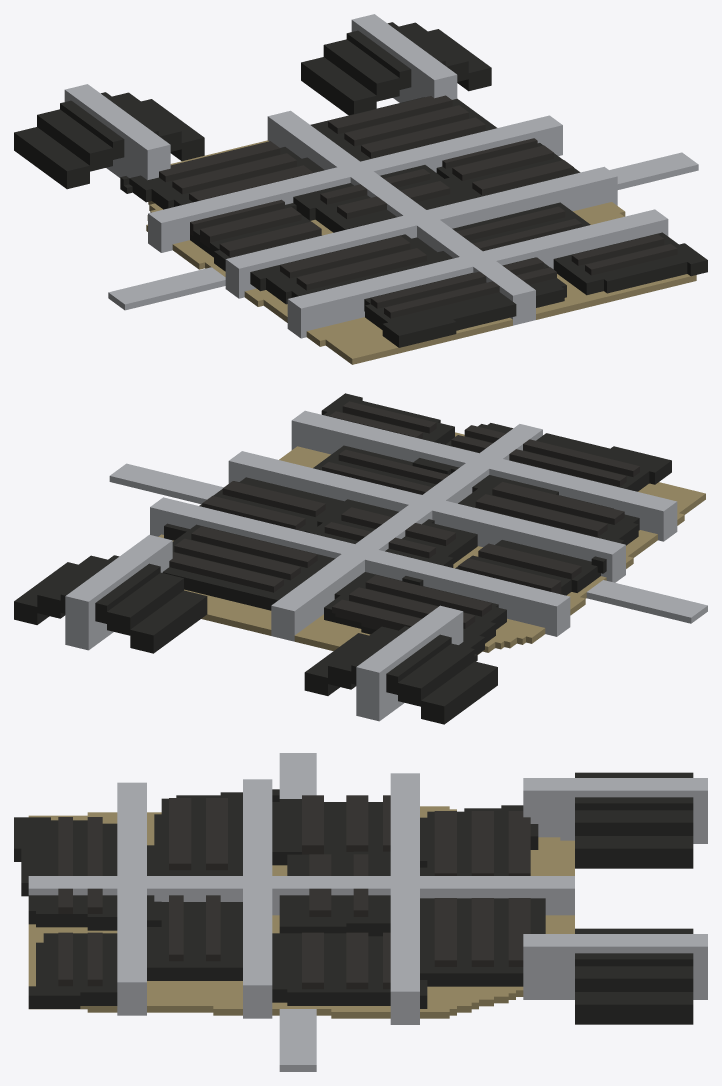
Rendered from tireplate.glb.
The picture shows the model from 3 angles, top to bottom: view 1: azimuth 30°, elevation 25°; view 2: azimuth 150°, elevation 25°; view 3: azimuth 270°, elevation 25°; orthographic projection. The views are drawn at different scales.
Parts seen in each view (by area): view 1: tireplate:compound; view 2: tireplate:compound; view 3: tireplate:compound.
Part boxes in pixels (box(x1,y1,x2,y2)): tireplate:compound: box(14, 14, 707, 364); tireplate:compound: box(14, 393, 707, 724); tireplate:compound: box(14, 753, 707, 1071).
Bounding box in the file's own units: 0.6 × 0.048 × 0.564.
